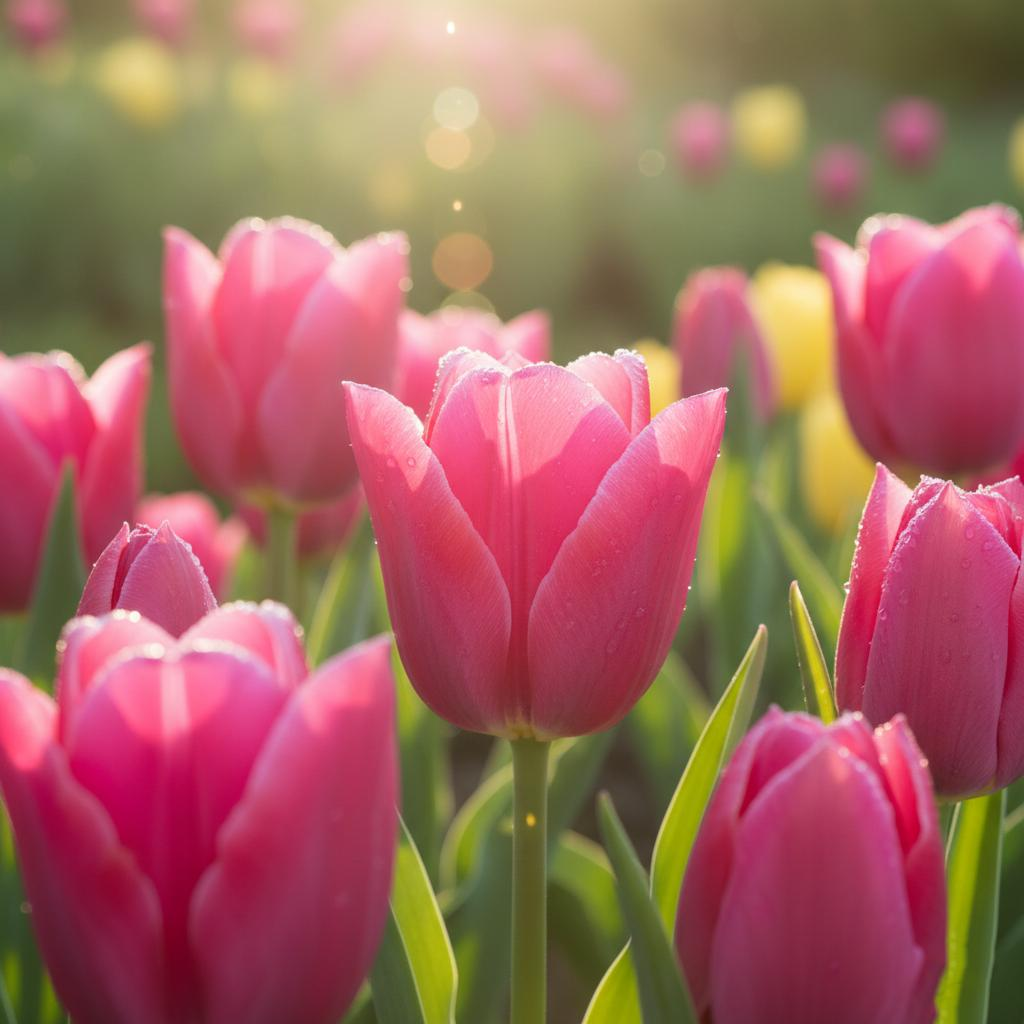tulip: (340, 343, 729, 743)
